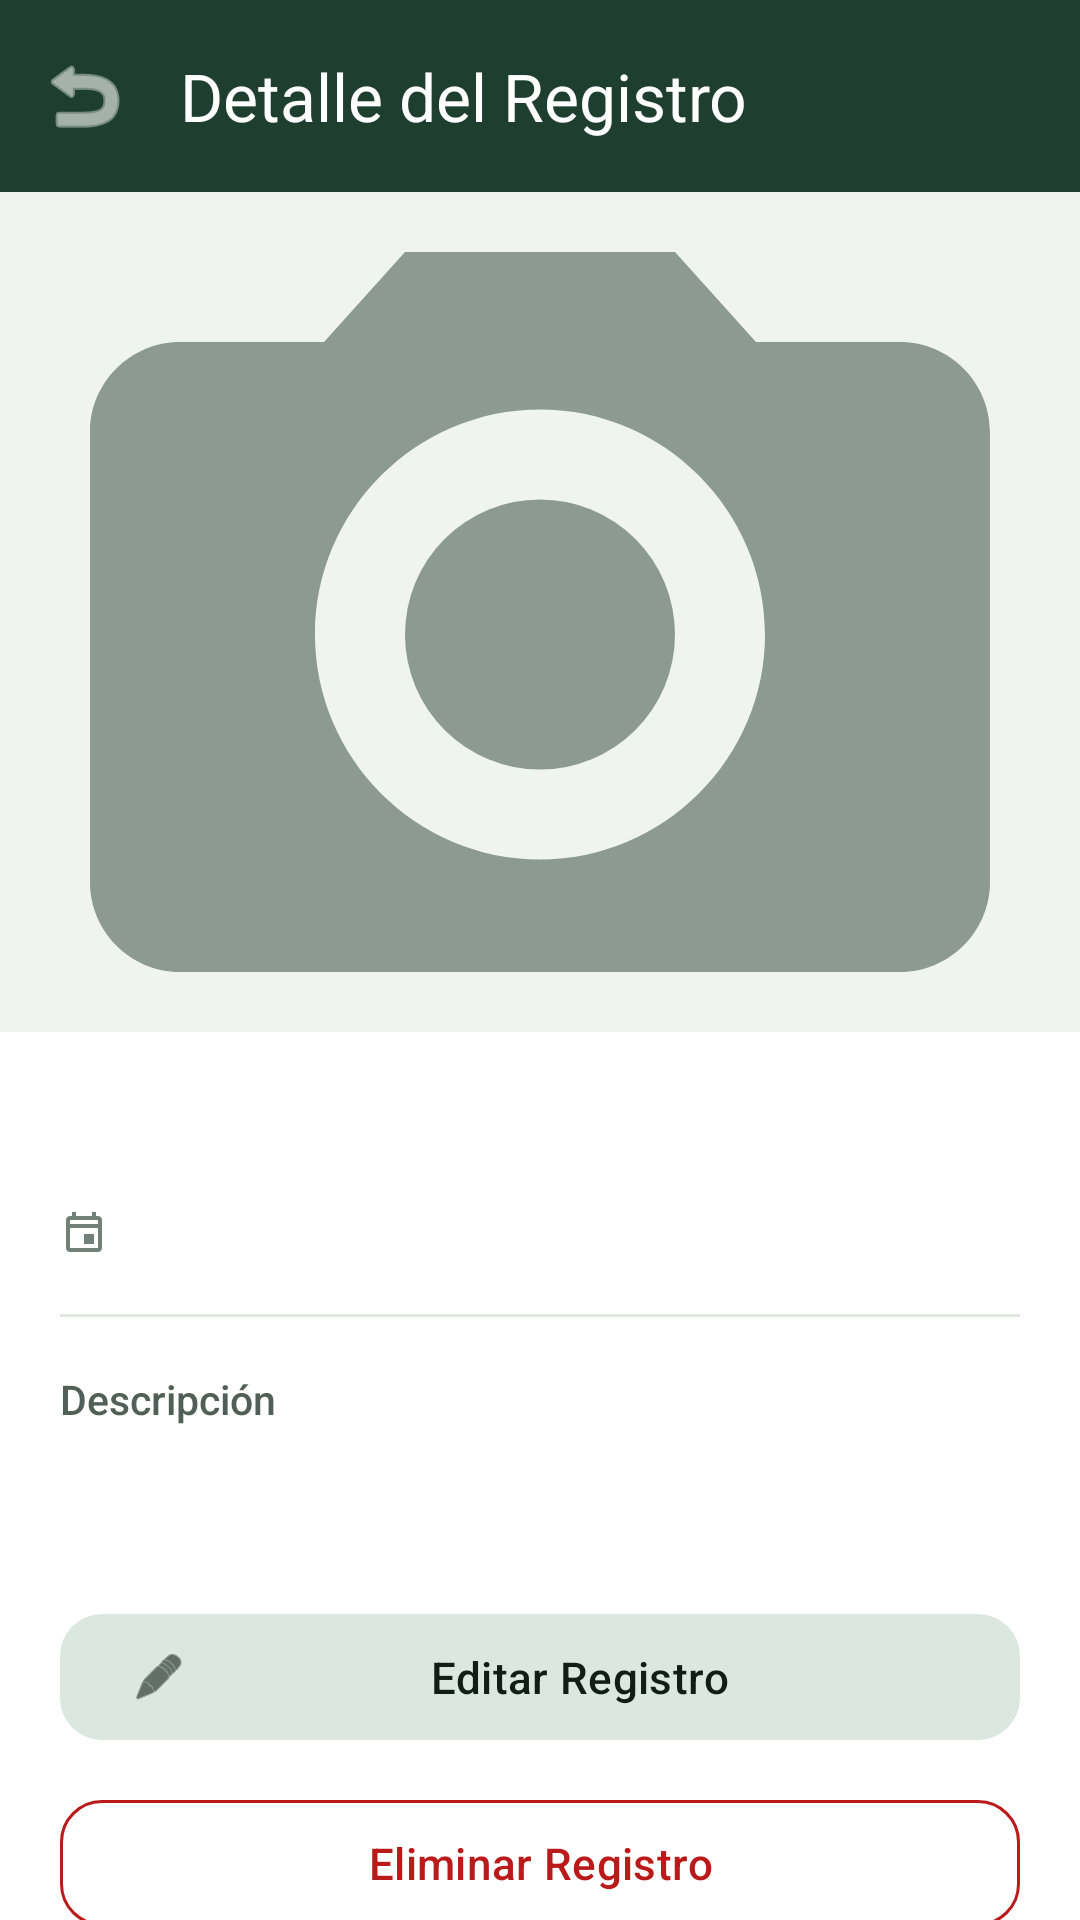

Icon bounding boxes for this 1080px×1920px phone screenshot, format (x1, y1, x2, y2):
Icono fecha: (66, 1212, 102, 1252)
